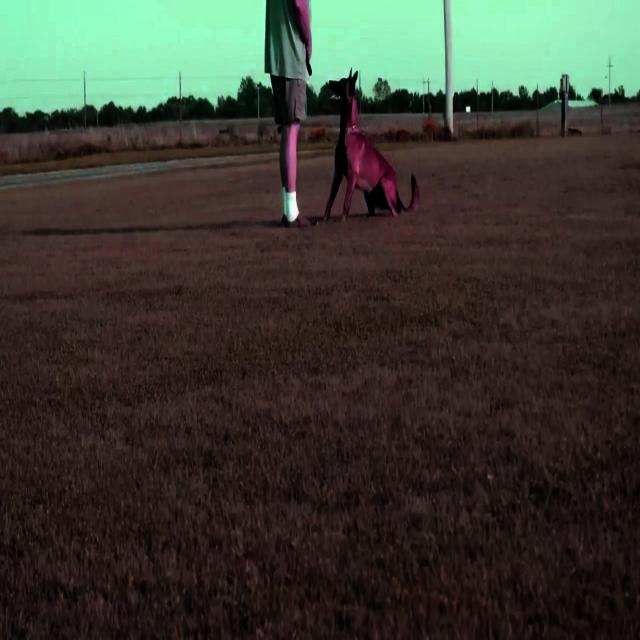Unleashed_Dog: (279, 68, 420, 216)
